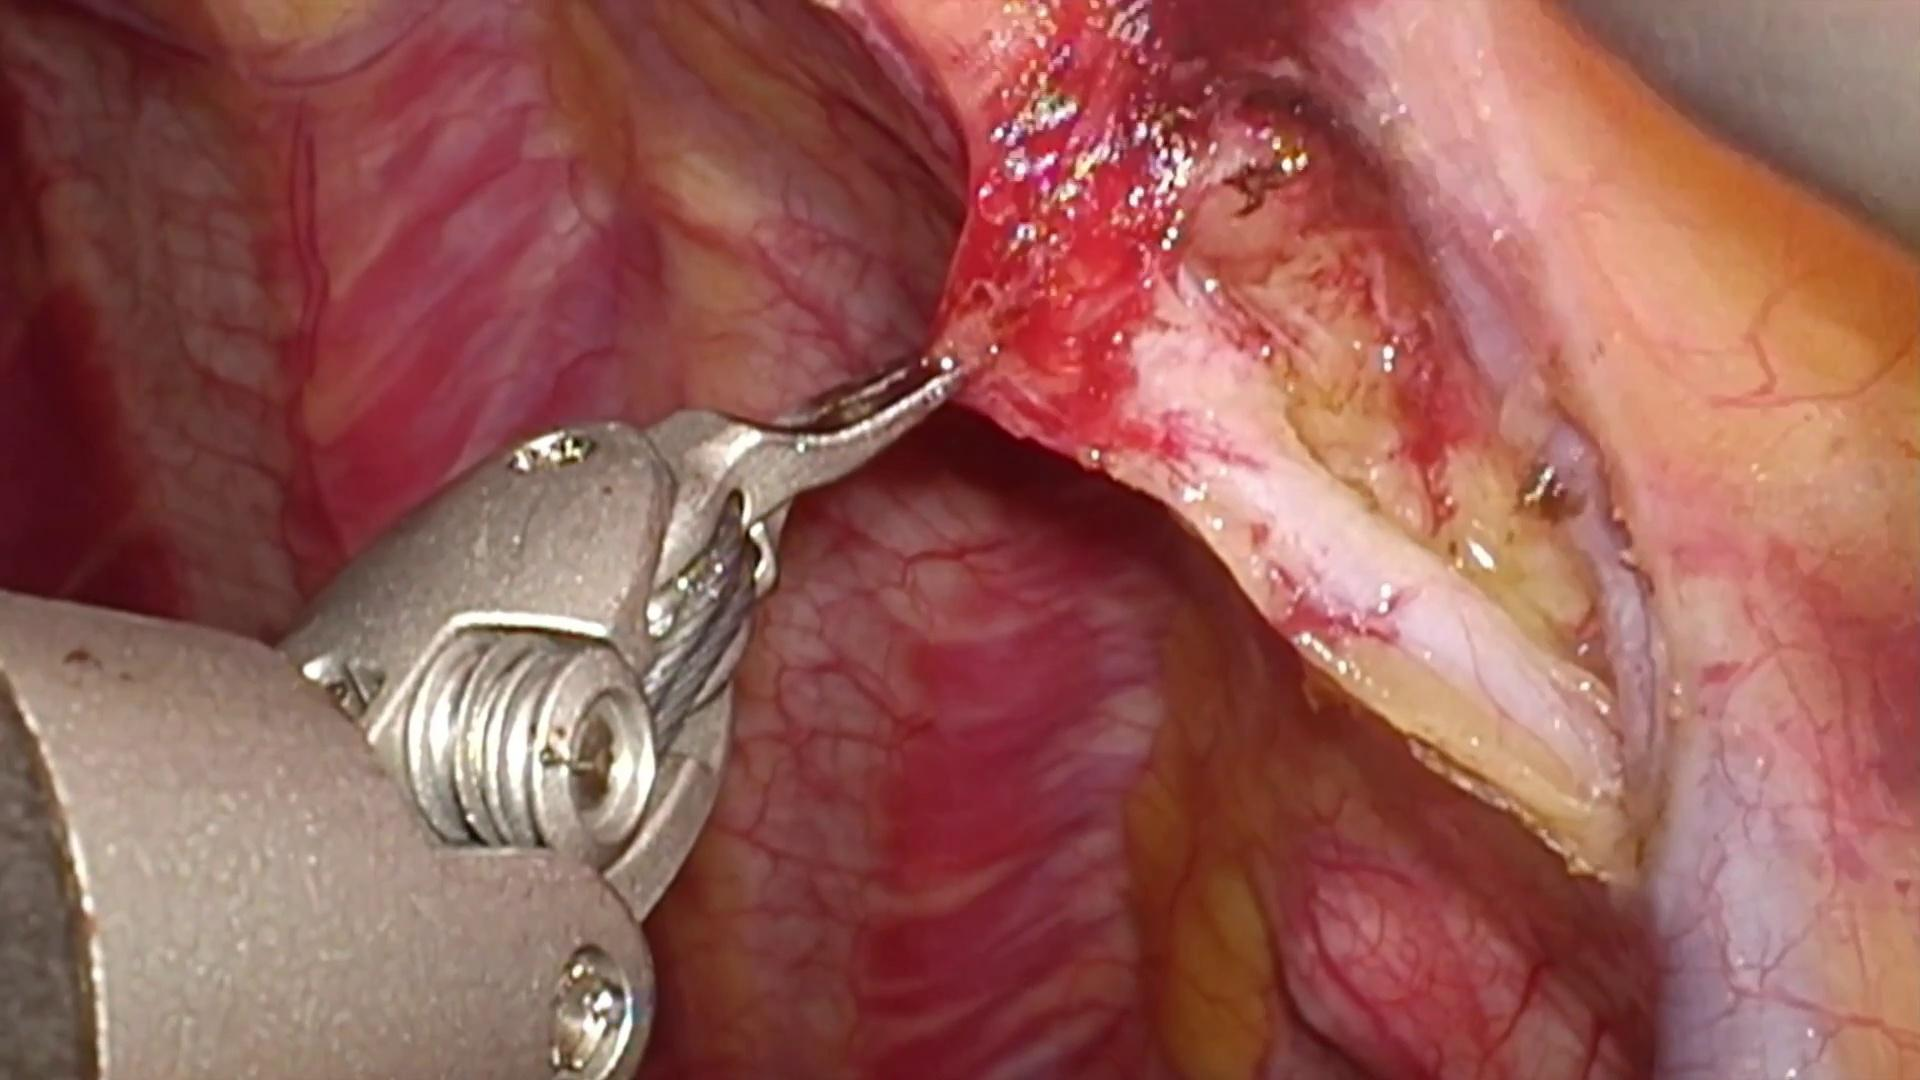Cautery_Spatula: (1545, 0, 1920, 251)
Debakey: (622, 301, 985, 617)
